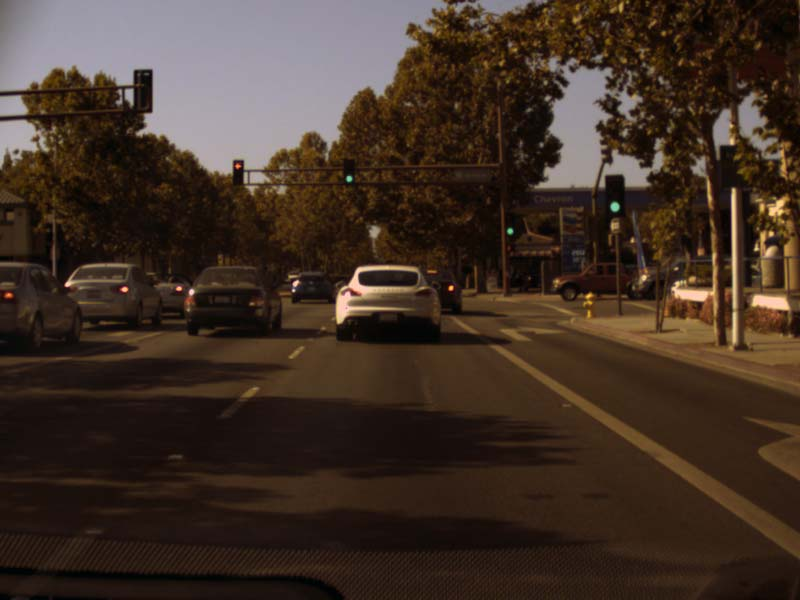Green: (605, 175, 624, 216), (342, 158, 354, 185), (505, 211, 516, 236)
Red: (233, 160, 243, 185)
